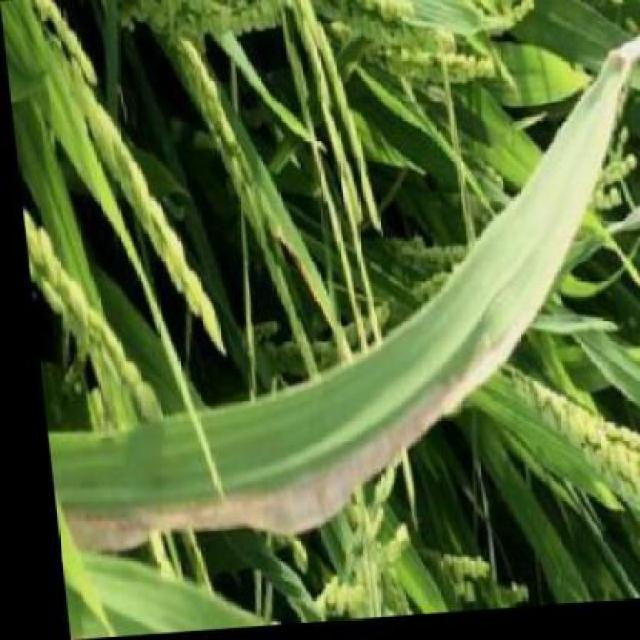Brown_Spot: (36, 359, 459, 546)
